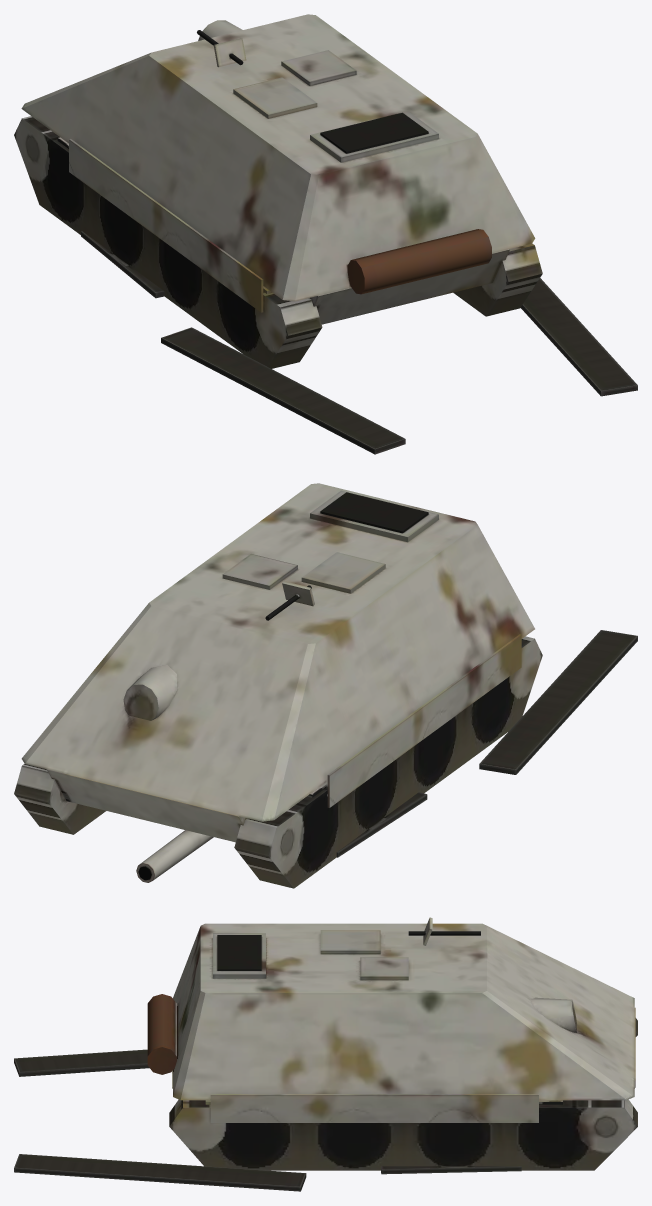
Rendered from hetzer_winter.glb.
The picture shows the model from 3 angles, top to bottom: view 1: azimuth 30°, elevation 25°; view 2: azimuth 150°, elevation 25°; view 3: azimuth 270°, elevation 25°; orthographic projection. The views are drawn at different scales.
Visible parts, largest first — view 1: hull_ok, hull_trackL, hull_trackR; view 2: hull_ok, hull_trackL, gun_ok; view 3: hull_ok, hull_trackR, hull_trackL.
Part boxes in pixels (x1,y1,x2,y2): hull_ok: [14, 14, 542, 368]; hull_trackL: [81, 231, 405, 454]; hull_trackR: [520, 278, 637, 396]; hull_ok: [14, 483, 542, 888]; hull_trackL: [336, 630, 637, 857]; gun_ok: [136, 830, 213, 882]; hull_ok: [147, 917, 637, 1170]; hull_trackR: [14, 1154, 521, 1191]; hull_trackL: [14, 1049, 149, 1076].
Bounding box in the file's own units: 3.63 × 2.45 × 6.46.
12 materials, 12 textured.
